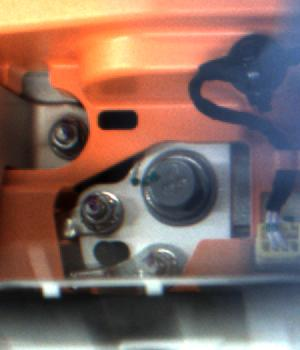nut_b: (144, 149, 221, 225)
screw_s: (77, 190, 127, 233), (41, 112, 87, 155), (137, 244, 178, 272)
